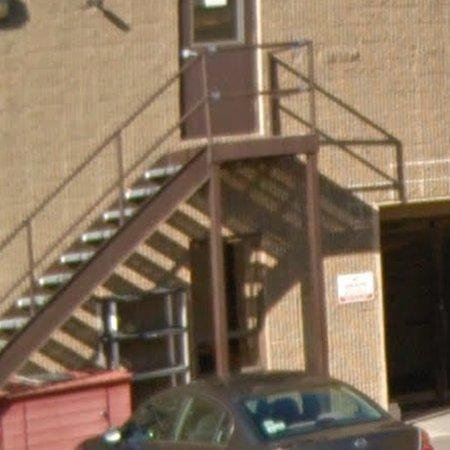stairs: (0, 147, 207, 387)
